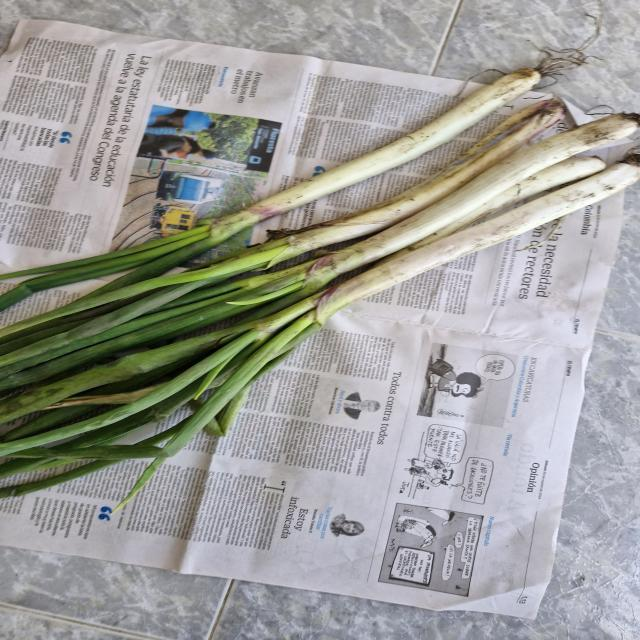green_onion: (0, 148, 640, 514), (0, 60, 562, 347)
